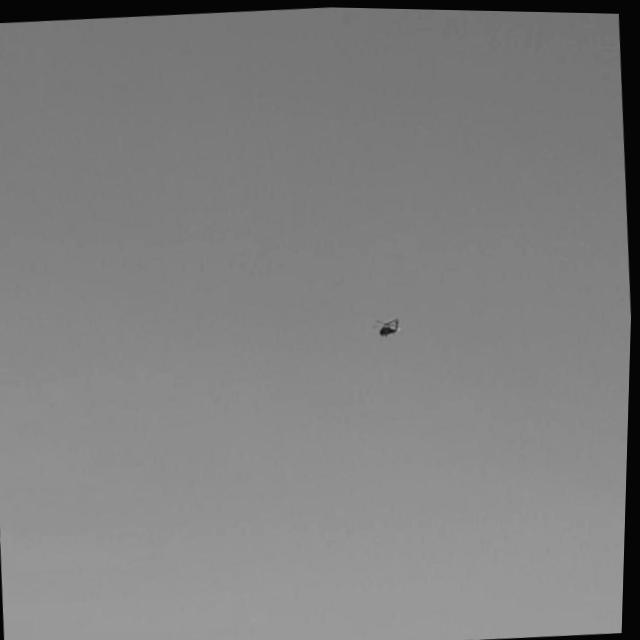helikopter: (343, 280, 421, 376)
